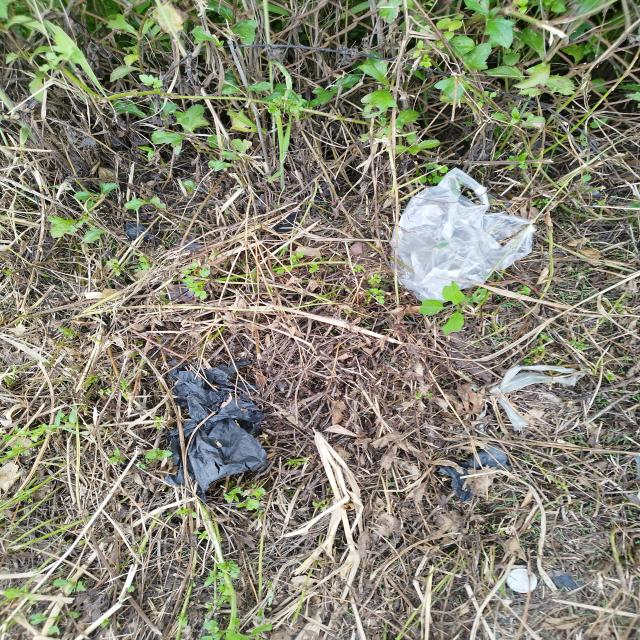bag: (391, 168, 534, 302), (163, 364, 271, 491)
